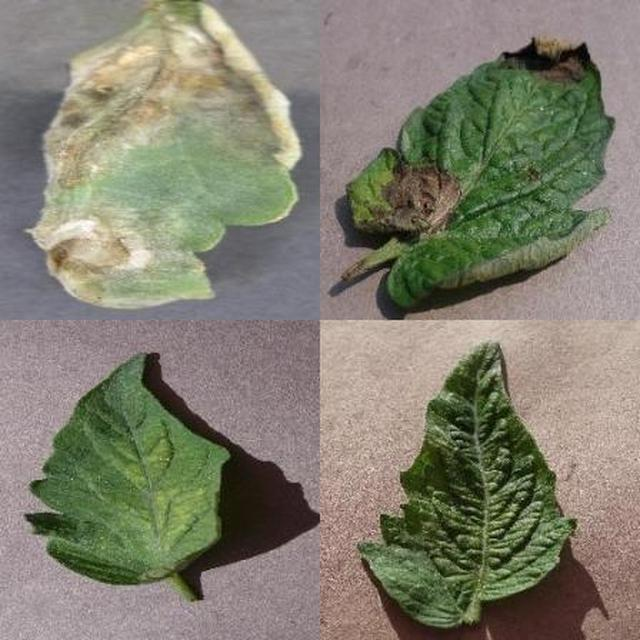Late Blight Leaf: (184, 221, 640, 640)
